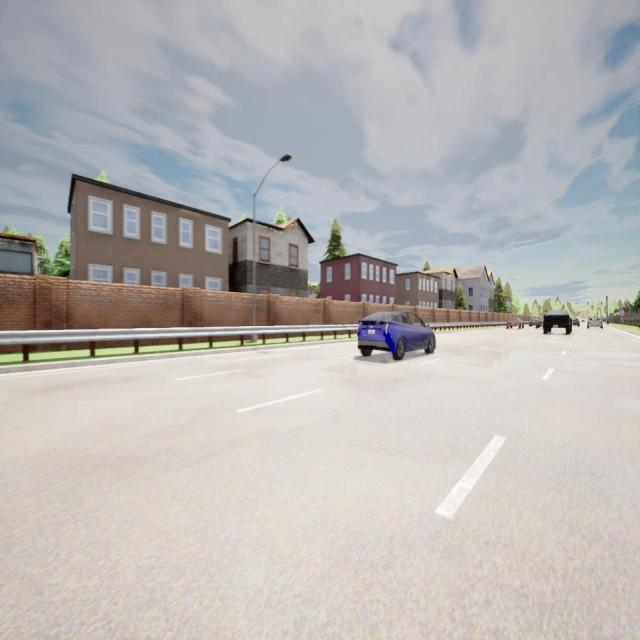Traffic_Signs: (620, 310, 624, 316)
Vehicle: (357, 309, 435, 359), (543, 309, 572, 336), (586, 316, 603, 329), (507, 317, 524, 329), (536, 318, 544, 328), (572, 318, 580, 327), (529, 320, 536, 327), (581, 320, 585, 322)
